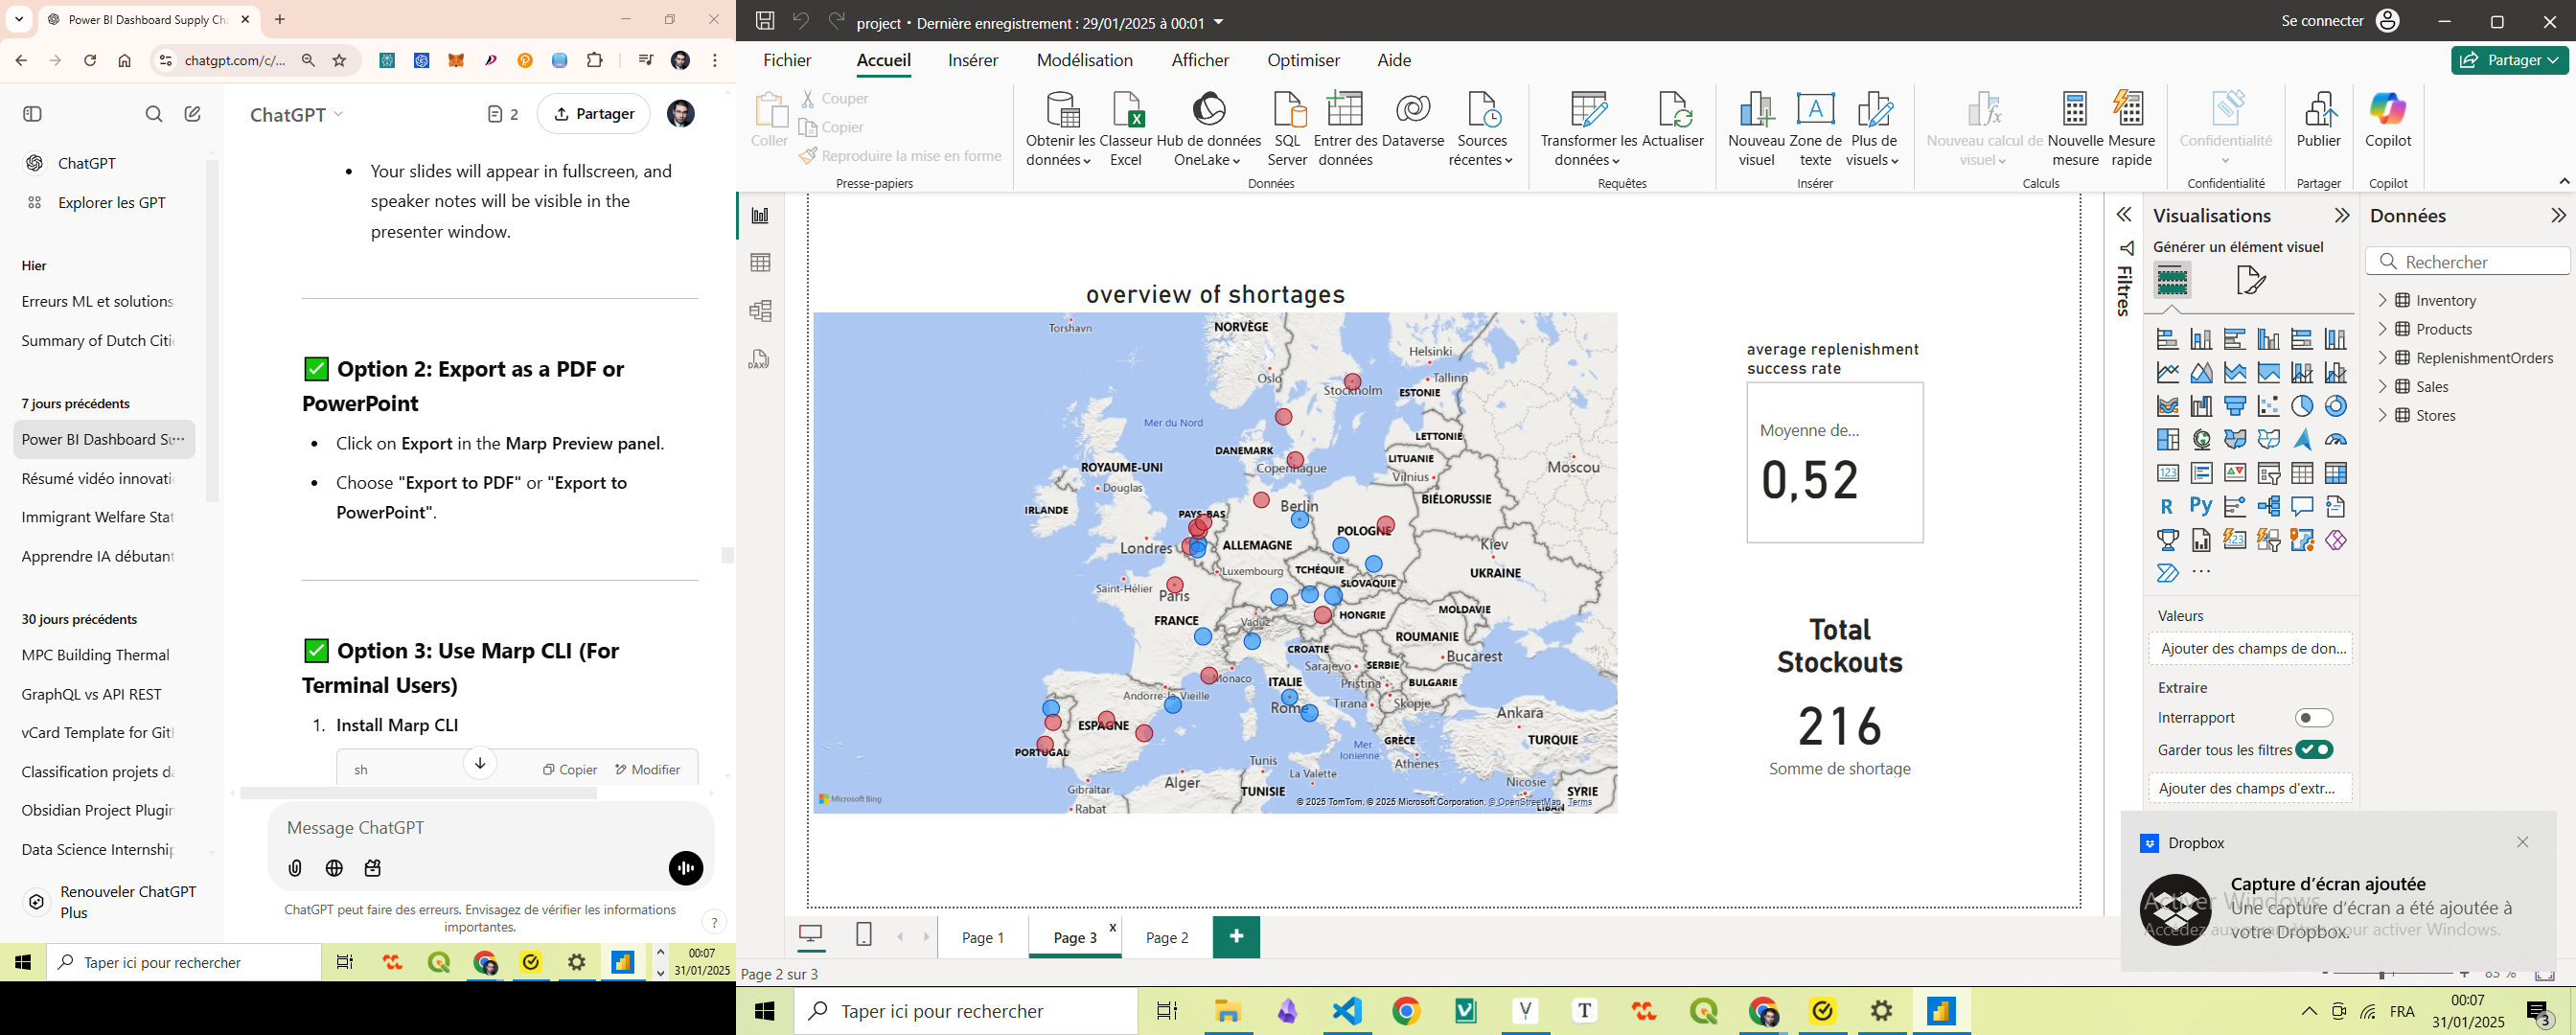

What the dashboard file says about the page in this screenshot:
{"tool":"powerbi","page":{"name":"Page 3","canvas":[1280,720],"ordinal":1},"visuals":[{"type":"map","title":"overview of shortages","fields":{"Category":["Stores.City"],"Size":["Sum(Inventory.StockLevel)"]},"box":[0,86.9,819.2,544.1],"z":0},{"type":"cardVisual","title":"average replenishment success rate","fields":{"Data":["Avg(ReplenishmentOrders.Replenishment Success Rate)"]},"box":[939.8,148.4,188.2,211.1],"z":1000},{"type":"card","title":"Total Stockouts","fields":{"Values":["Sum(Inventory.shortage)"]},"box":[939.8,423.5,197.9,171.3],"z":2000}]}

Visuals, with their boxes on the page's 1280x720 design canvas (x1, y1, x2, y2). These are canvas units, not pixel positions in the 2576x1035 screenshot, which may show the page scaled, cropped or inside an application window:
"overview of shortages" map: [left=0, top=87, right=819, bottom=631]
"average replenishment success rate" cardVisual: [left=940, top=148, right=1128, bottom=360]
"Total Stockouts" card: [left=940, top=424, right=1138, bottom=595]
